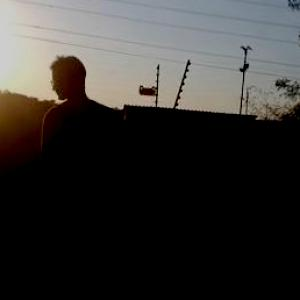follow: (35, 52, 125, 299)
